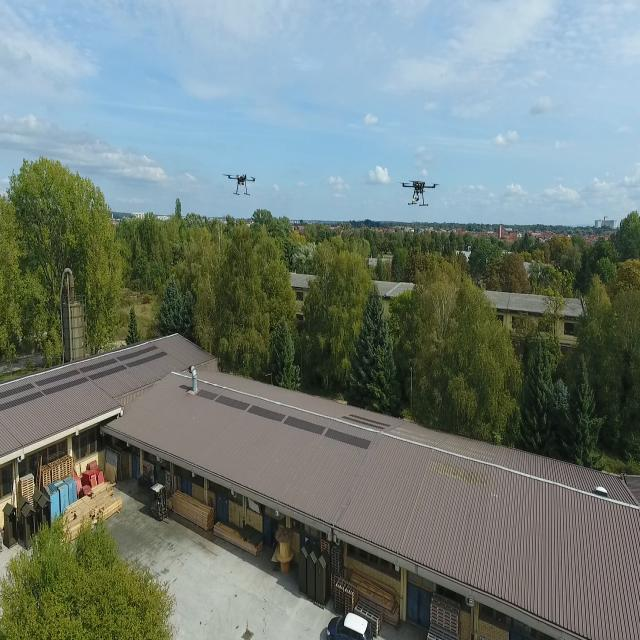UAV: (393, 174, 444, 207), (221, 168, 262, 197)
